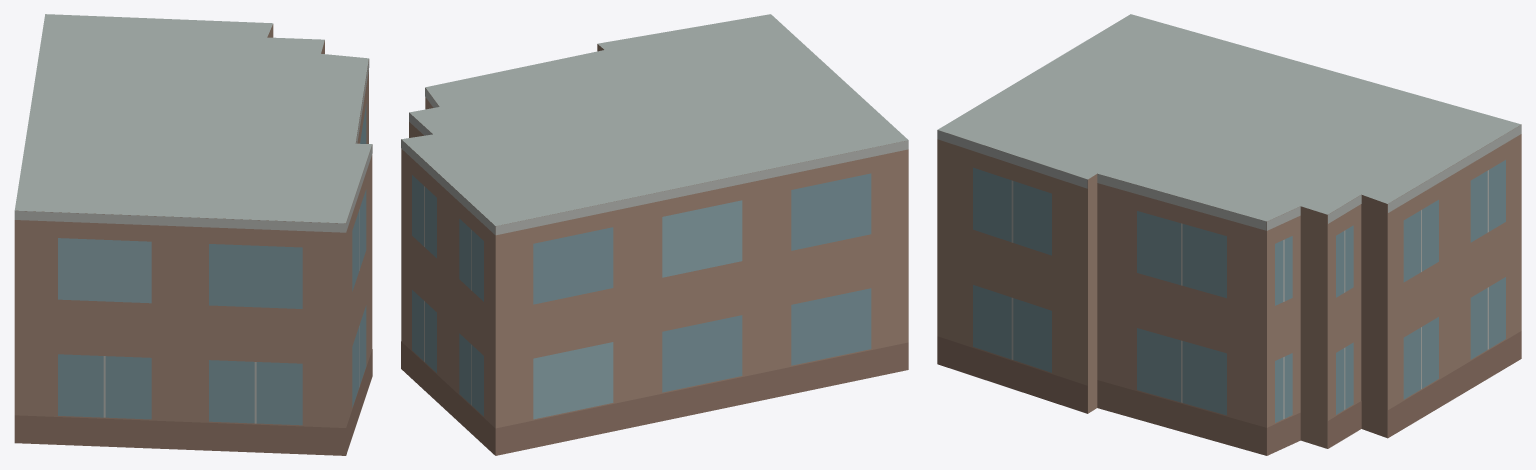
The model's file is survey-upis-32488922.glb.
3 views of the same model, side by side, from view 1: azimuth 30°, elevation 25°; view 2: azimuth 150°, elevation 25°; view 3: azimuth 270°, elevation 25° (orthographic). The views are drawn at different scales.
Parts seen in each view (by area): view 1: survey-upis-32488922.tmp; view 2: survey-upis-32488922.tmp; view 3: survey-upis-32488922.tmp.
Boxes of the visible parts, left/top/right/bottom form: survey-upis-32488922.tmp: left=14, top=14, right=372, bottom=455; survey-upis-32488922.tmp: left=401, top=14, right=908, bottom=455; survey-upis-32488922.tmp: left=937, top=14, right=1521, bottom=455.
Bounding box in the file's own units: 11.59 × 6.1 × 13.79.
